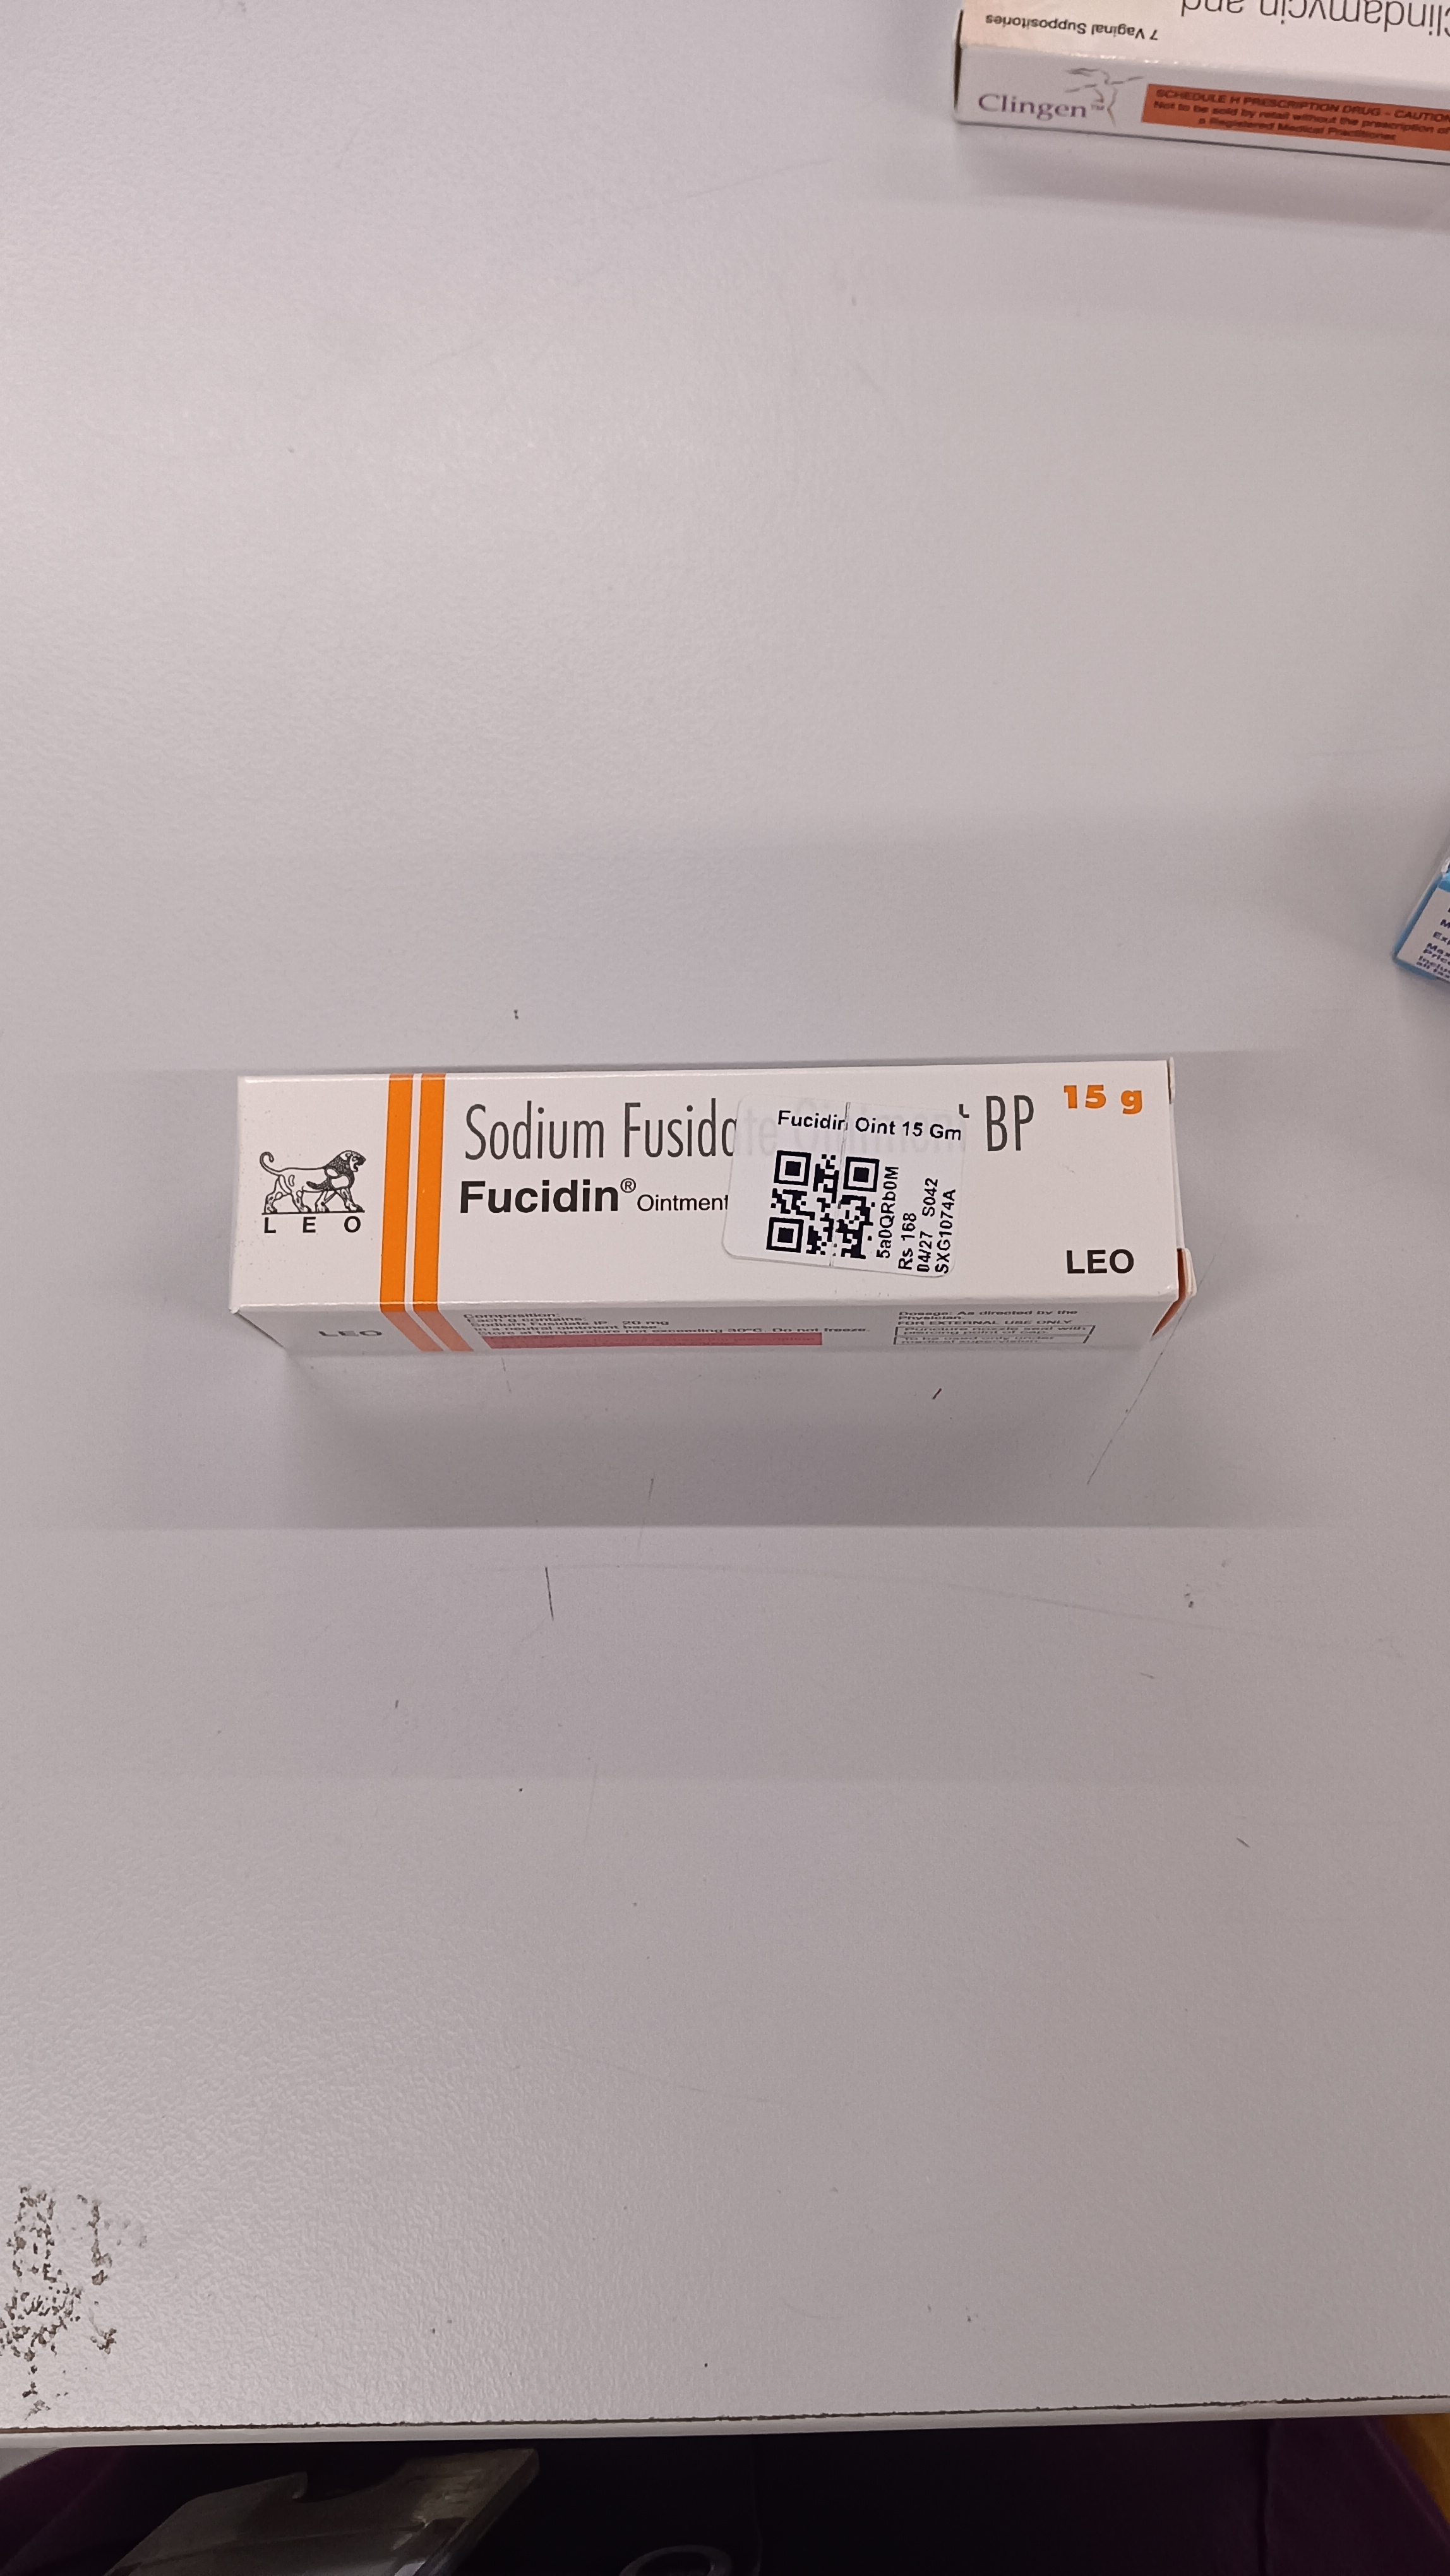QR: (765, 1095, 880, 1205)
